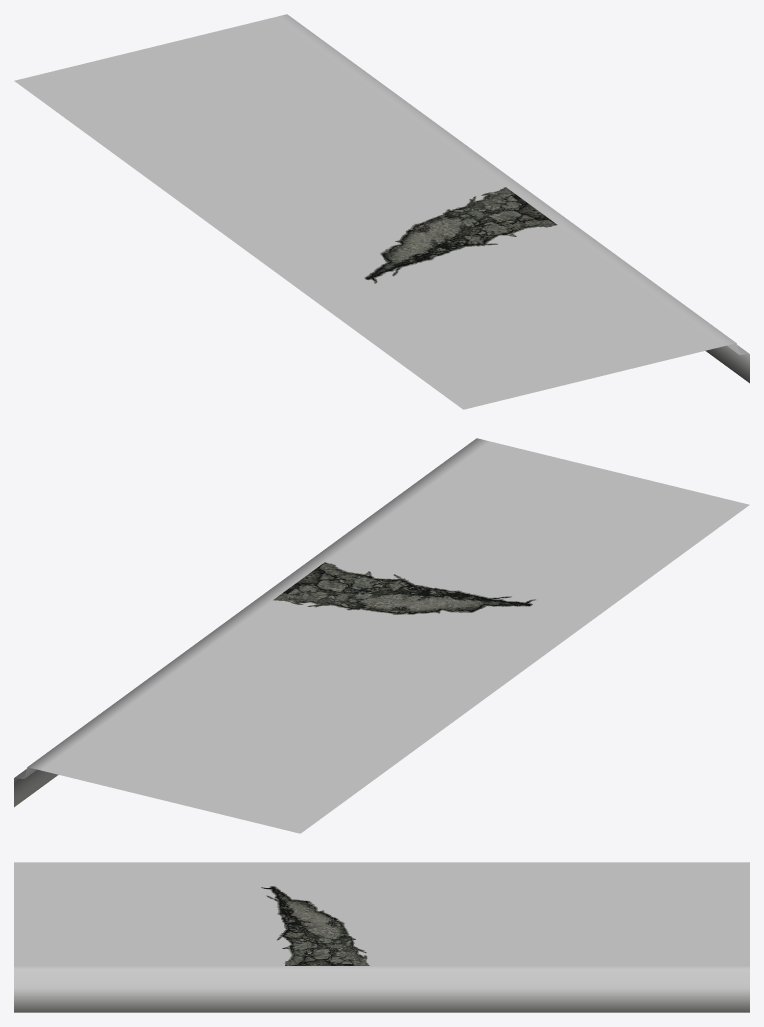
File: SWConcreteEdge1x3.FBX
The picture shows the model from 3 angles, top to bottom: view 1: azimuth 30°, elevation 25°; view 2: azimuth 150°, elevation 25°; view 3: azimuth 270°, elevation 25°; orthographic projection. The views are drawn at different scales.
Parts seen in each view (by area): view 1: Slab, Cracks; view 2: Slab, Cracks; view 3: Slab, Cracks.
Part boxes in pixels (x1,y1,x2,y2): Slab: [14, 14, 749, 409]; Cracks: [364, 187, 557, 283]; Slab: [14, 438, 749, 833]; Cracks: [273, 562, 536, 614]; Slab: [14, 862, 749, 1012]; Cracks: [261, 886, 369, 965].
Size of what is drawn, in the model's own units: 2.83 by 0.4144 by 7.68.
